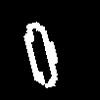chain: (24, 22, 57, 87)
